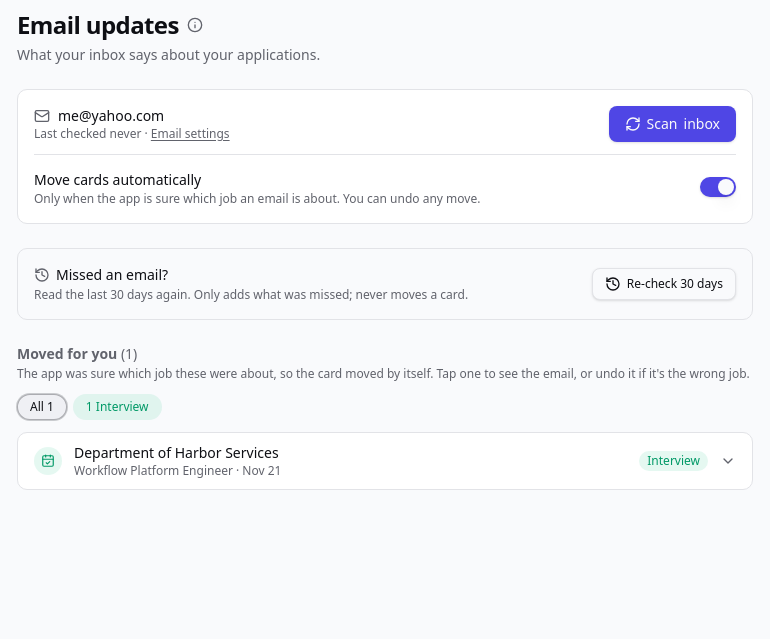
an update the app placed by its company › moved by itself: Wrong job puts it back and asks again
Click the button "Department of Harbor". click: (176,452)
box: [18,433,752,489]
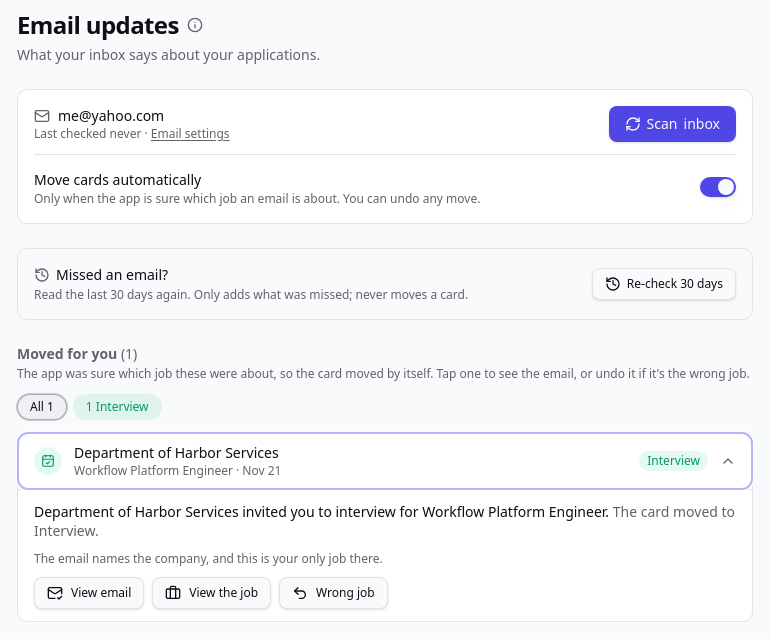
Click the button "Wrong job". click: (333,592)
box: [279,576,388,608]
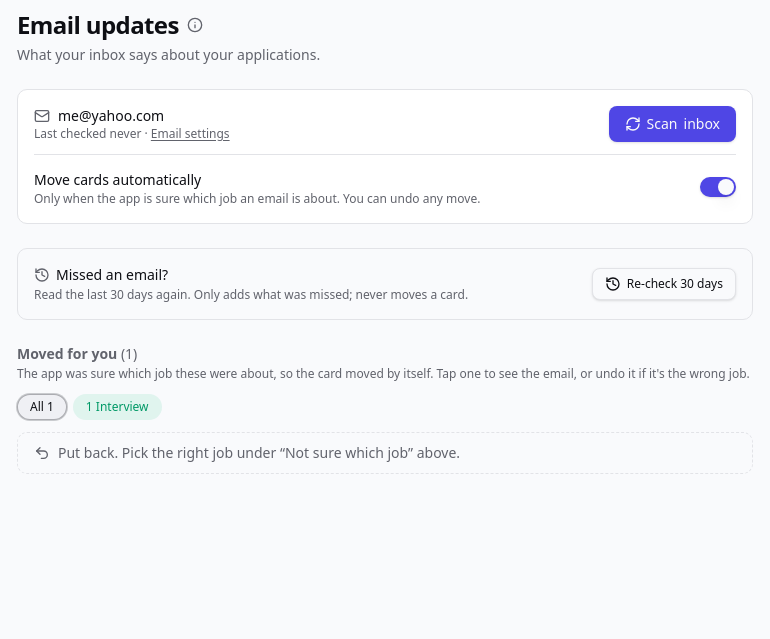
Expected: the list item "Pick the right job" is shown, [58,443,460,462]
